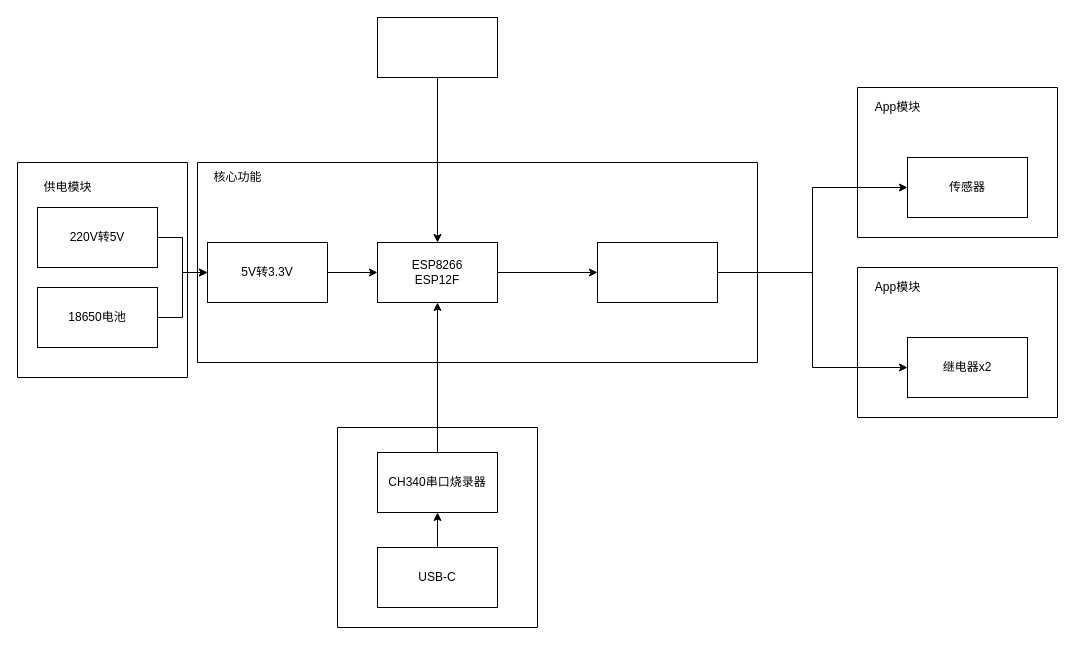
Image size: 1075x645. Some labels were removed from this diagram. The shapes that lost their labels are listed below. From the top down, each one's centre as x and y in pixels, then its label:
At (x=437, y=47): "外部开关".
At (x=657, y=272): "GPIO".
At (x=437, y=527): "调试模块".
